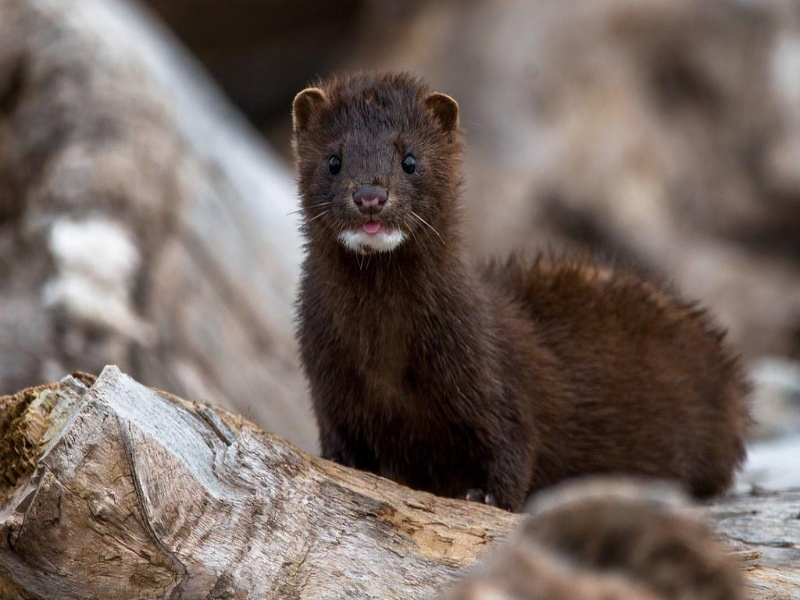minkish: (282, 65, 761, 522)
